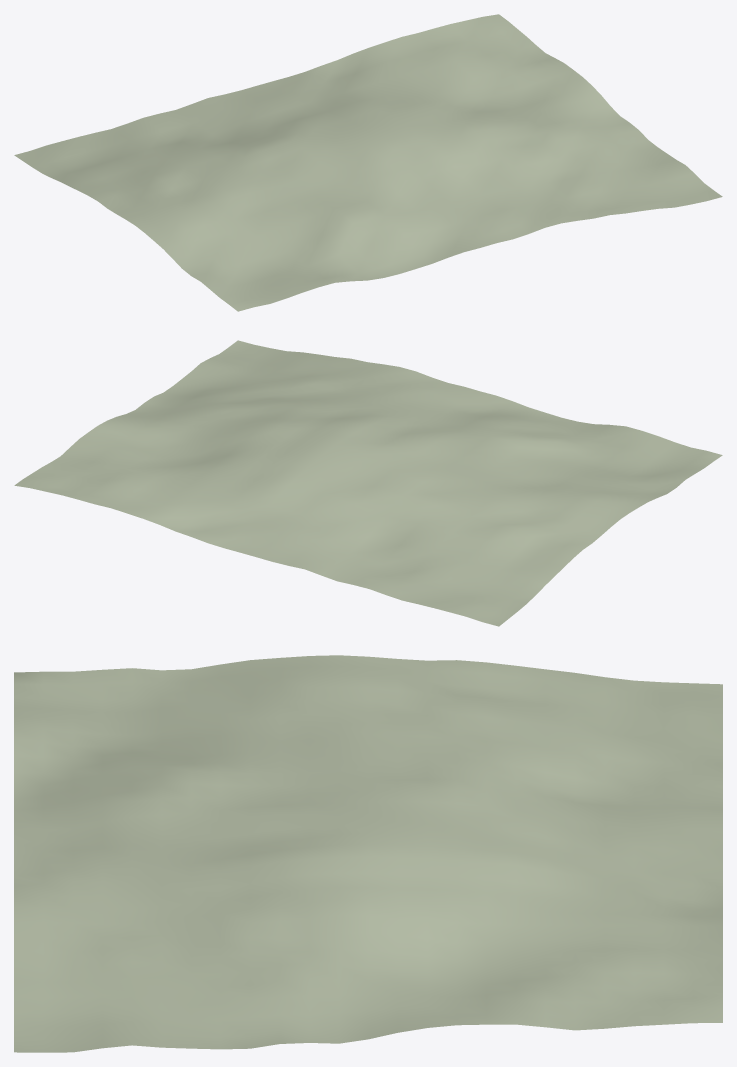
The picture shows the model from 3 angles, top to bottom: view 1: azimuth 30°, elevation 25°; view 2: azimuth 150°, elevation 25°; view 3: azimuth 270°, elevation 25°; orthographic projection. The views are drawn at different scales.
Visible parts, largest first — view 1: world-ground/30-72; view 2: world-ground/30-72; view 3: world-ground/30-72.
Part boxes in pixels (bbox=[...]): world-ground/30-72: bbox=[14, 14, 722, 311]; world-ground/30-72: bbox=[14, 340, 722, 626]; world-ground/30-72: bbox=[14, 655, 722, 1052].
Size of the model in its own units: 37.5 by 2.44 by 30.
